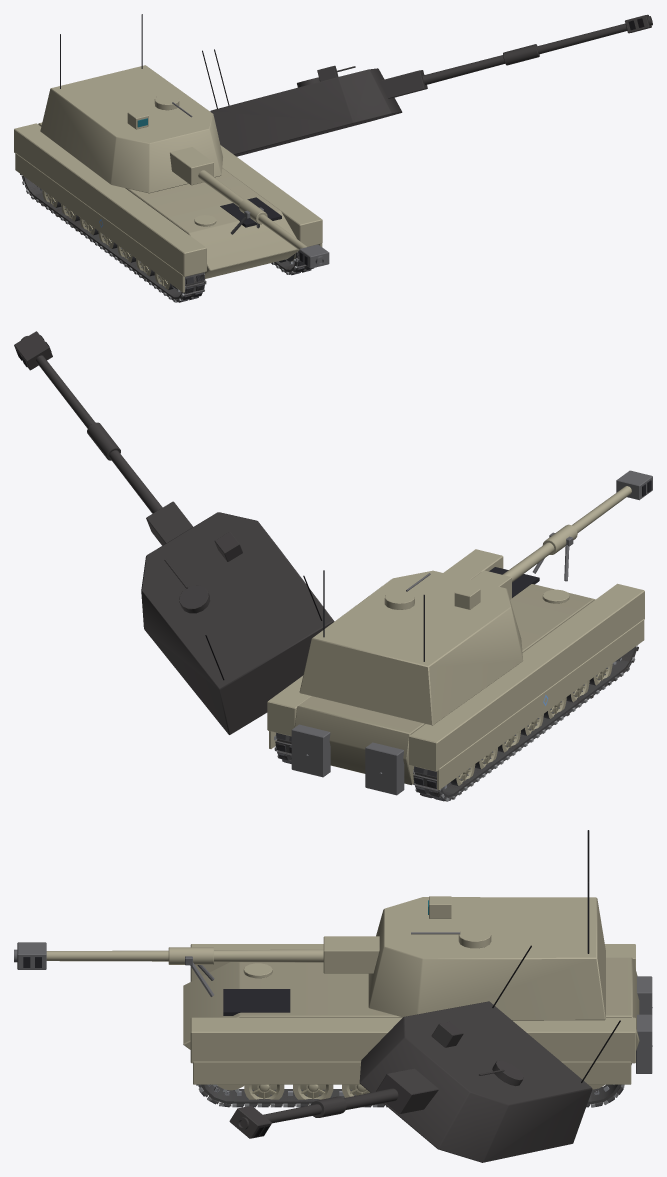
File: artillery__type_99_sph.glb
The picture shows the model from 3 angles, top to bottom: view 1: azimuth 30°, elevation 25°; view 2: azimuth 150°, elevation 25°; view 3: azimuth 270°, elevation 25°; orthographic projection. The views are drawn at different scales.
Parts seen in each view (by area): view 1: Hull_Mesh, Turret_Mesh, Wreck, Gun_Mesh, Track_L_Mesh; view 2: Wreck, Hull_Mesh, Turret_Mesh, Gun_Mesh, Track_L_Mesh; view 3: Hull_Mesh, Wreck, Turret_Mesh, Gun_Mesh, Track_R_Mesh, Wheel_R6_Mesh, Wheel_R5_Mesh.
Part boxes in pixels (box(x1,y1,x2,y2)): Hull_Mesh: box(14, 122, 322, 292); Turret_Mesh: box(40, 14, 222, 193); Wreck: box(21, 14, 652, 302); Gun_Mesh: box(170, 147, 329, 268); Track_L_Mesh: box(20, 174, 206, 302); Wreck: box(14, 331, 638, 801); Hull_Mesh: box(267, 532, 644, 795); Turret_Mesh: box(299, 570, 523, 725); Gun_Mesh: box(471, 470, 652, 599); Track_L_Mesh: box(413, 645, 638, 801); Hull_Mesh: box(183, 944, 652, 1084); Wreck: box(202, 945, 622, 1162); Turret_Mesh: box(368, 830, 605, 1020); Gun_Mesh: box(14, 936, 379, 973); Track_R_Mesh: box(196, 1084, 624, 1107); Wheel_R6_Mesh: box(244, 1084, 284, 1104); Wheel_R5_Mesh: box(293, 1084, 333, 1105).
Size of what is drawn, in the model's own units: 12.72 by 4.15 by 10.98.
